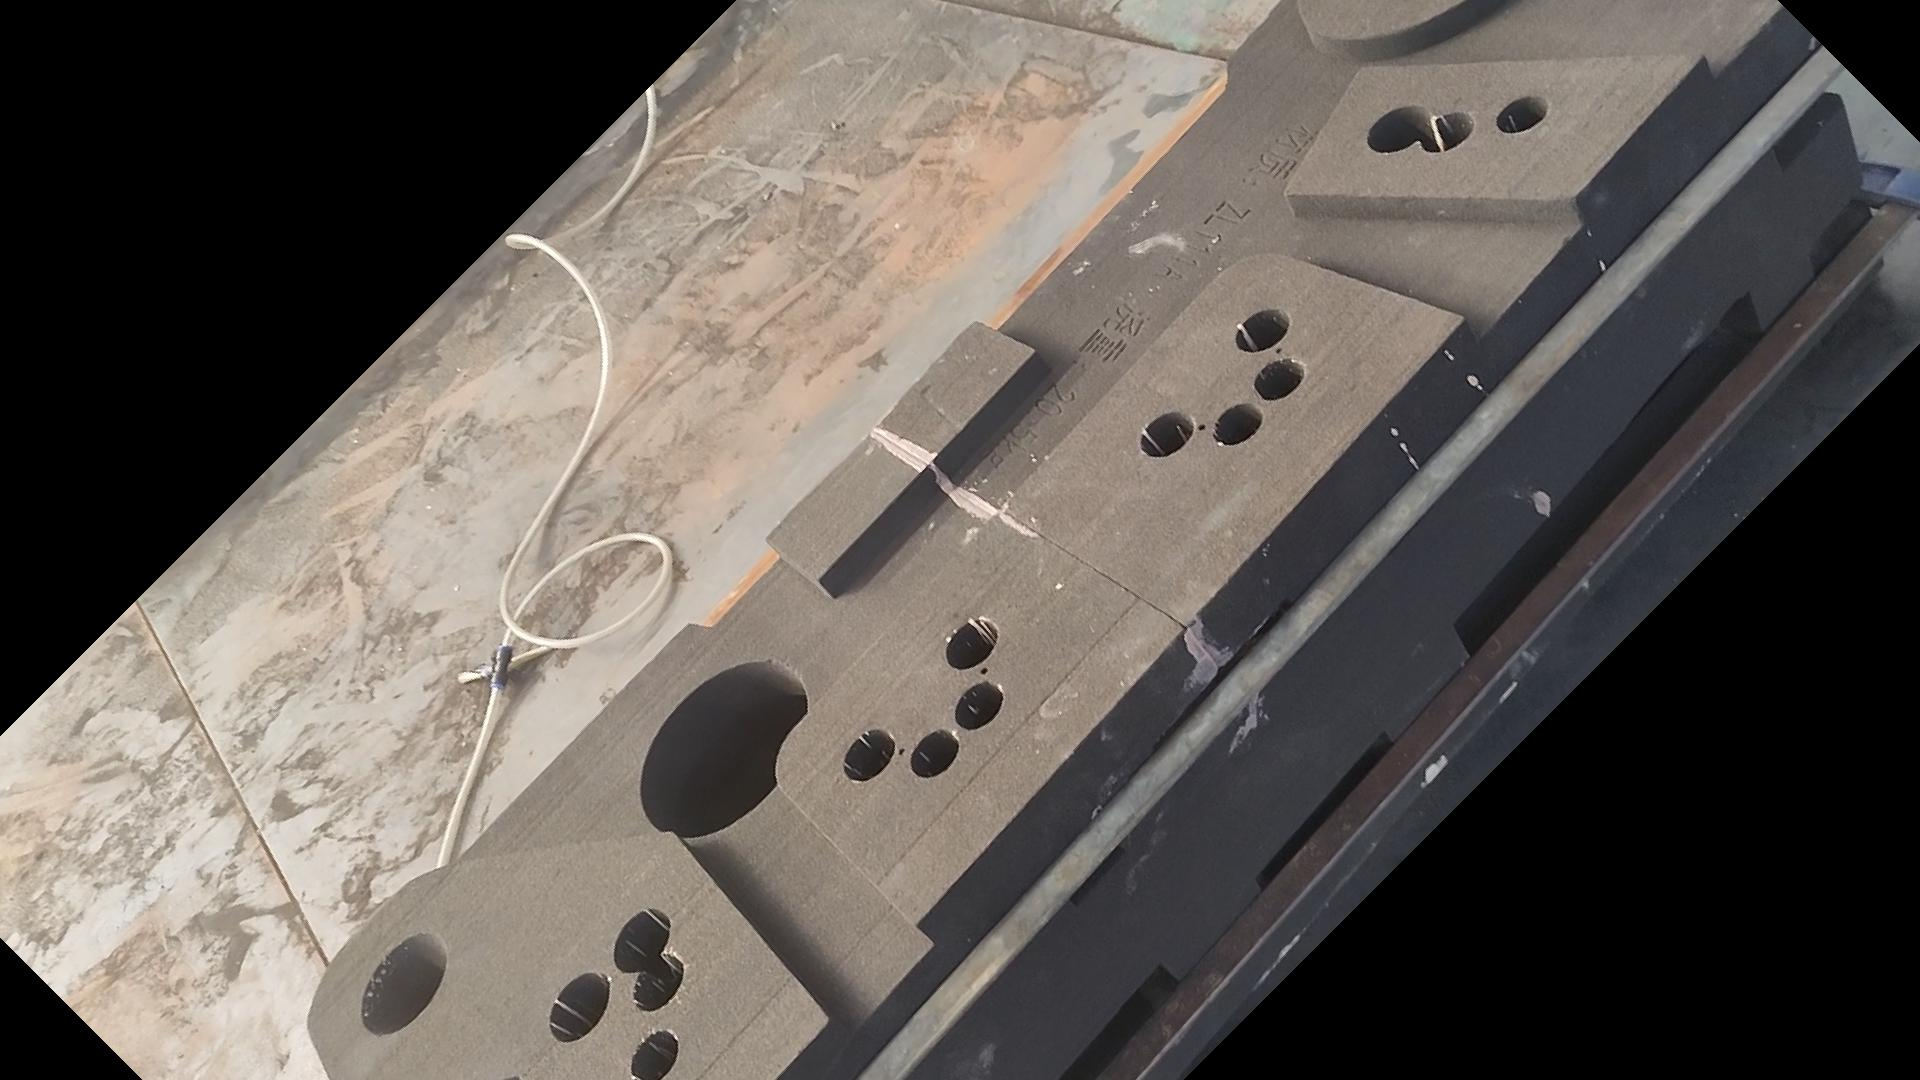pouring hole: (357, 928, 448, 1038)
